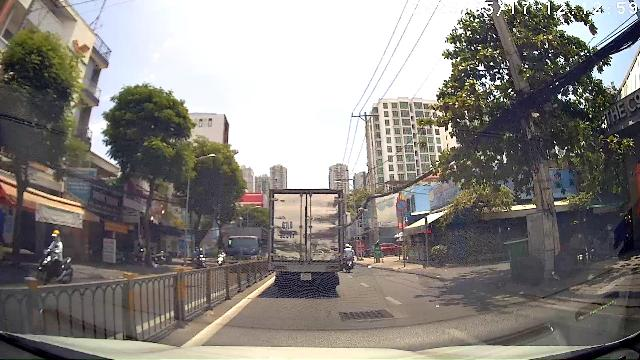131a-cam-do-xe: (396, 199, 407, 212)
